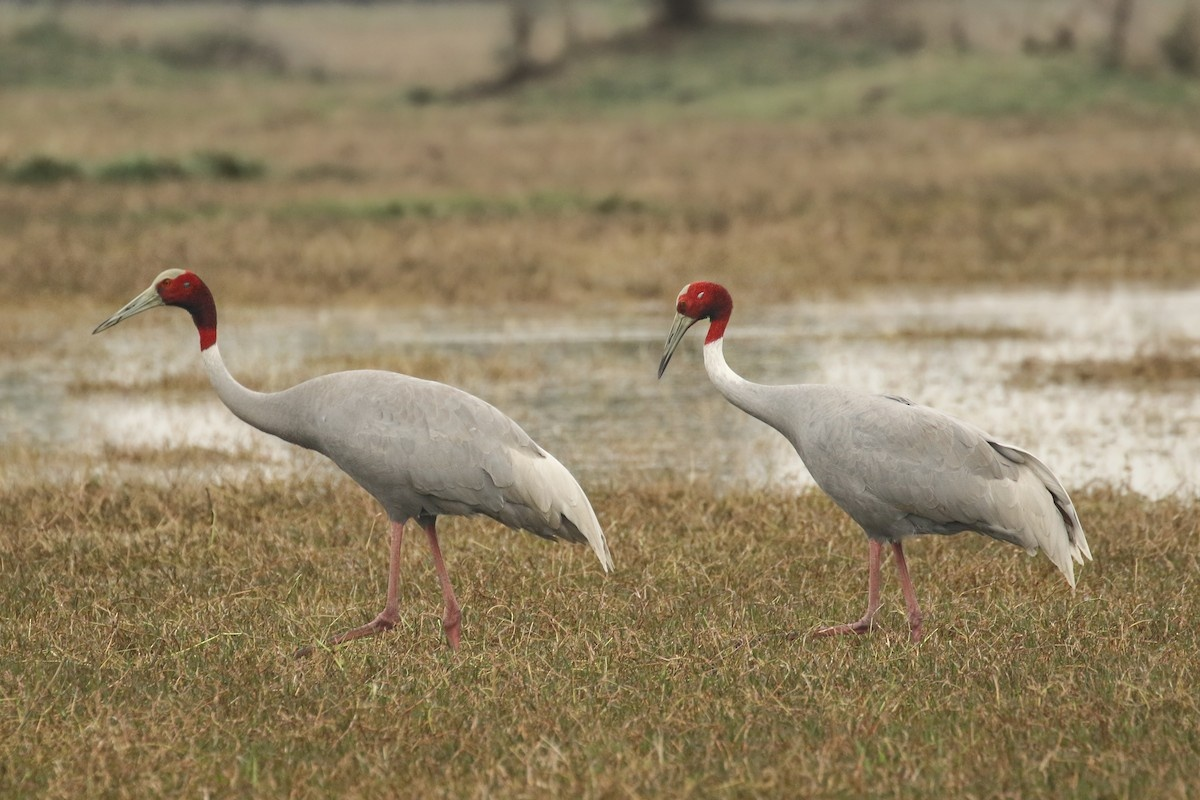crane: (90, 258, 623, 655), (655, 271, 1130, 627)
